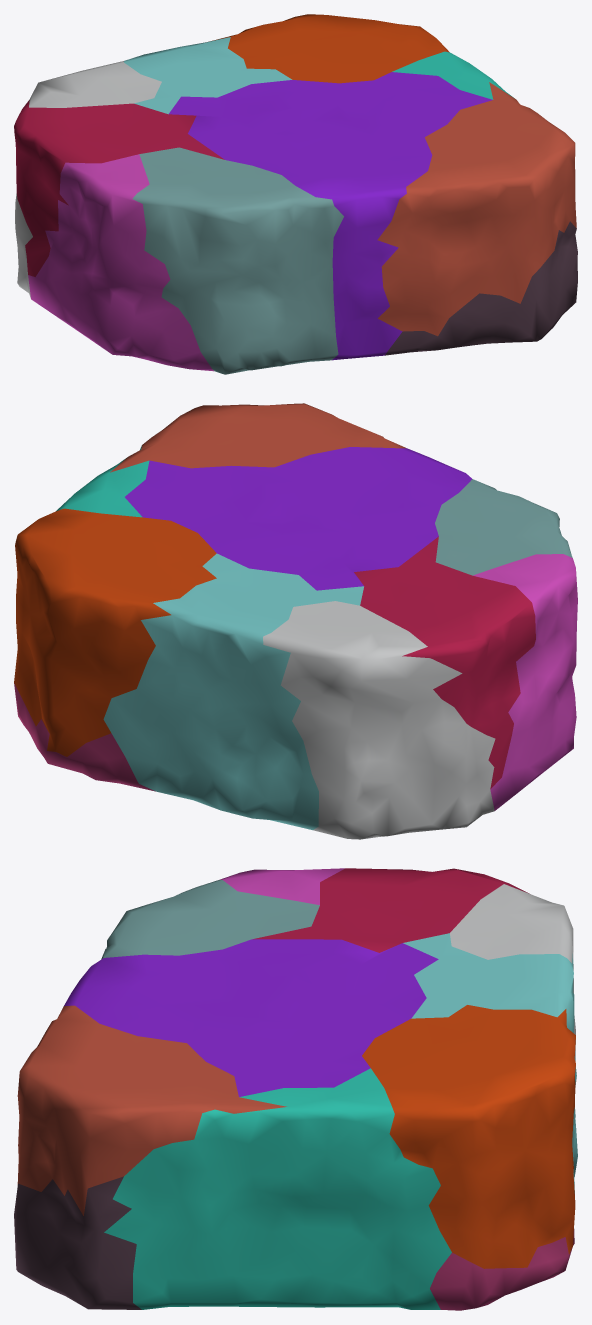
Rendered from CliffPlatform_01_low.fbx.
3 renders of one model, top to bottom at view 1: azimuth 30°, elevation 25°; view 2: azimuth 150°, elevation 25°; view 3: azimuth 270°, elevation 25°, orthographic. The views are drawn at different scales.
Visible parts, largest first — view 1: attribwrangle4; view 2: attribwrangle4; view 3: attribwrangle4.
Part boxes in pixels (box(x1,y1,x2,y2)): attribwrangle4: box(14, 14, 577, 374); attribwrangle4: box(14, 403, 577, 839); attribwrangle4: box(14, 868, 577, 1310).
Size of the model in its own units: 32.79 by 12.59 by 31.49.
